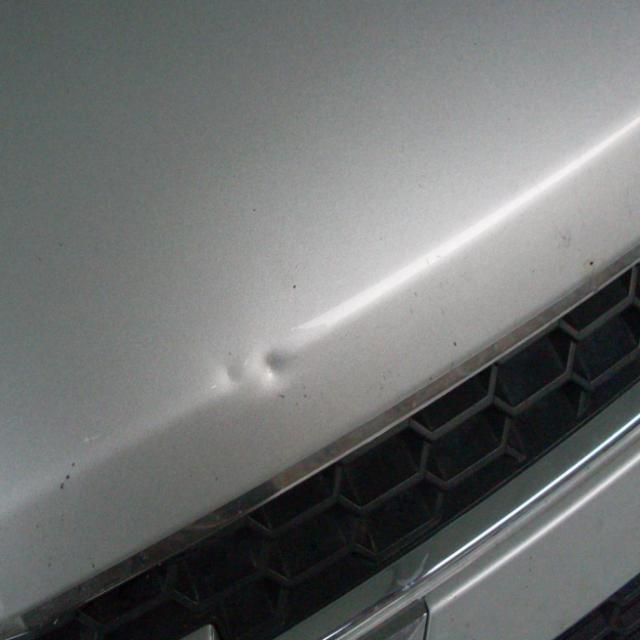dents: (252, 336, 310, 401), (214, 340, 247, 412)
